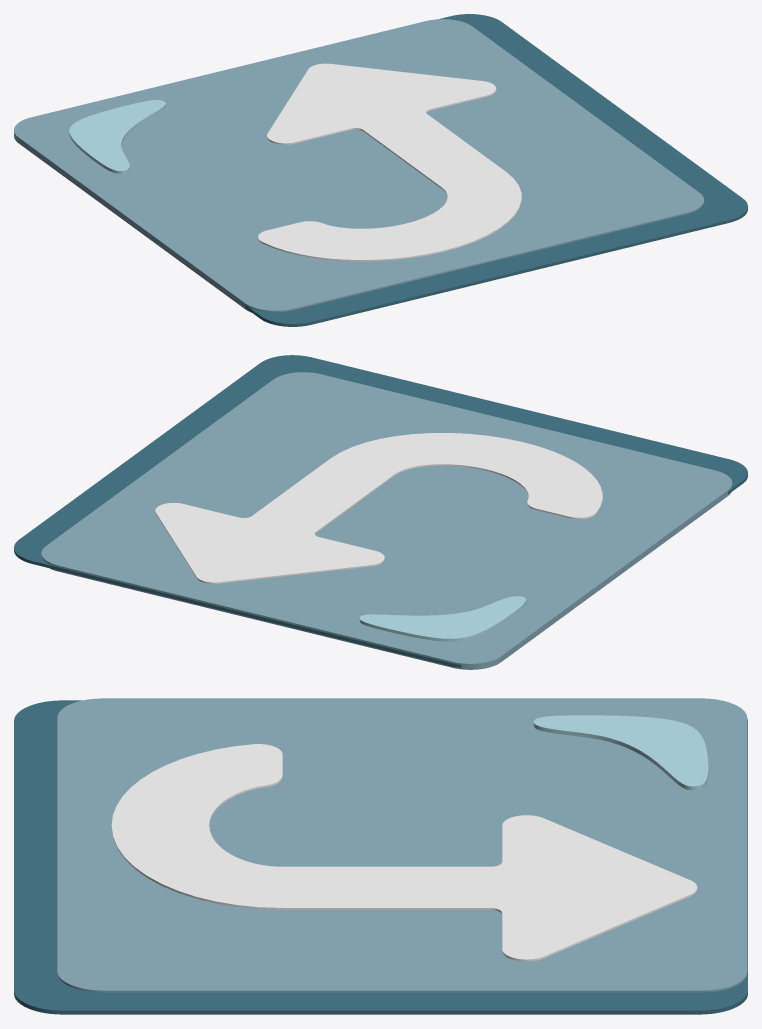
The model's file is emoji_u2934.glb.
3 views of the same model, one above another, from view 1: azimuth 30°, elevation 25°; view 2: azimuth 150°, elevation 25°; view 3: azimuth 270°, elevation 25° (orthographic). The views are drawn at different scales.
Parts seen in each view (by area): view 1: emoji_u2934; view 2: emoji_u2934; view 3: emoji_u2934.
Part boxes in pixels (x1,y1,x2,y2): emoji_u2934: (14,14,747,326); emoji_u2934: (14,355,747,669); emoji_u2934: (14,698,747,1014).
Bounding box in the file's own units: 0.0339 × 0.0008 × 0.0339.
